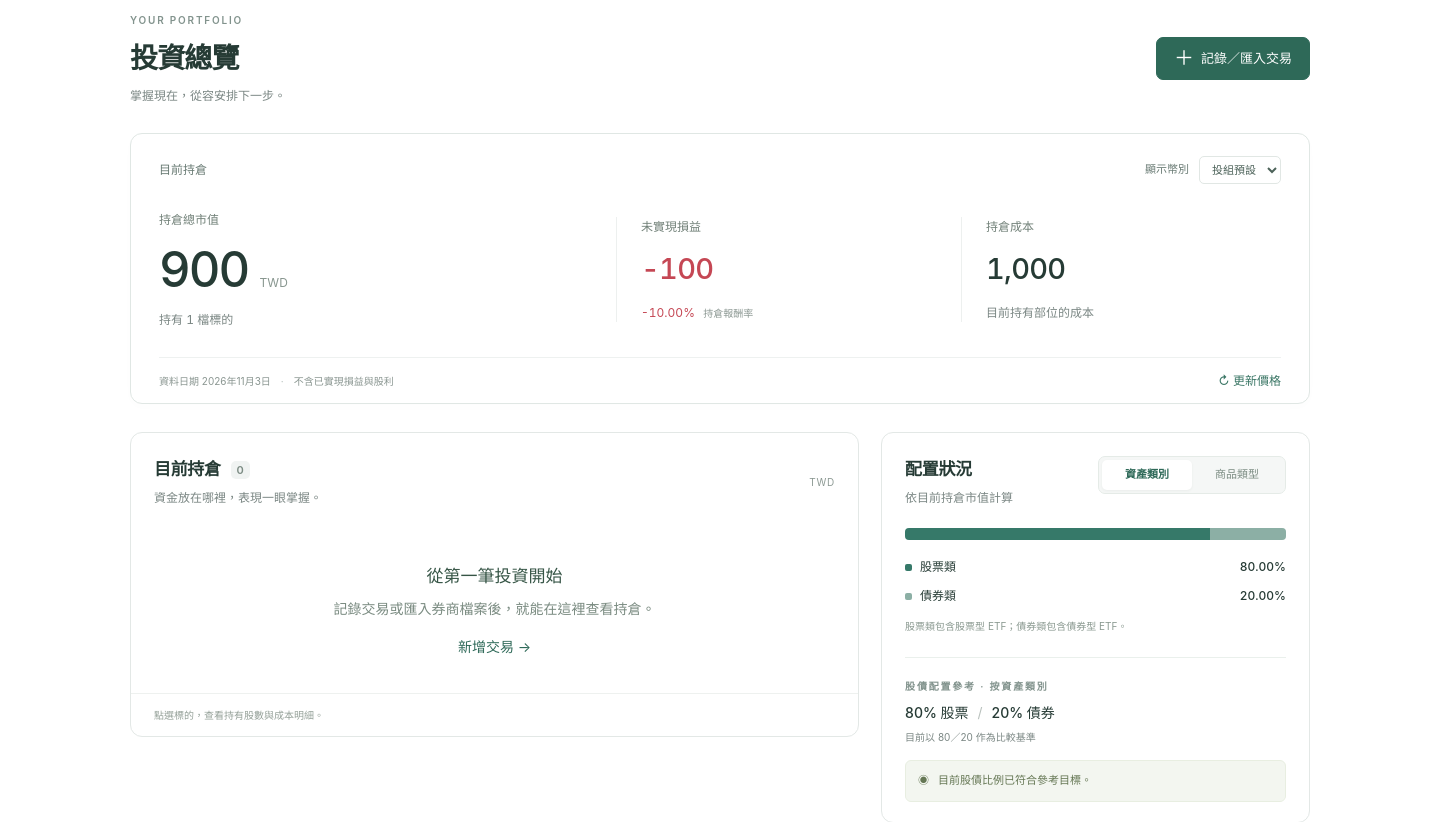
Test case: Overview homepage › hides the 80/20 asset-class reference when switching to product type
Check: the text "股票類" is shown, box x1=905 y1=556 x2=956 y2=576
Check: the text "債券類" is shown, box x1=905 y1=586 x2=956 y2=605
Click the button "商品類型" at (1237, 475), box x1=1192 y1=460 x2=1282 y2=490
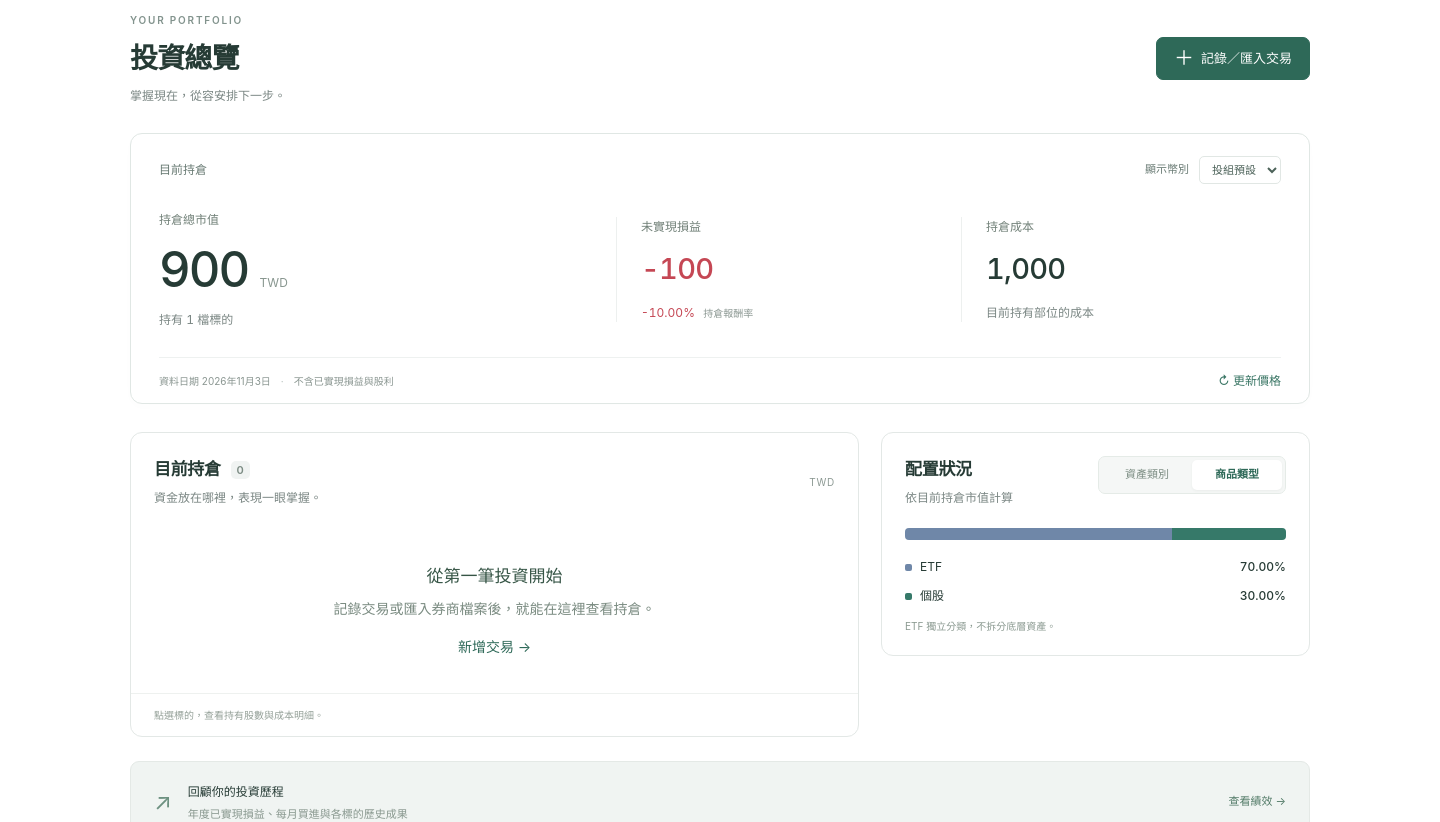
Check: the text "個股" is shown, box x1=905 y1=586 x2=944 y2=605
Check: the text "70.00%" is shown, box x1=1240 y1=556 x2=1286 y2=576
Check: the text "30.00%" is shown, box x1=1240 y1=586 x2=1286 y2=605
Click the button "資產類別" at (1147, 475), box x1=1102 y1=460 x2=1192 y2=490
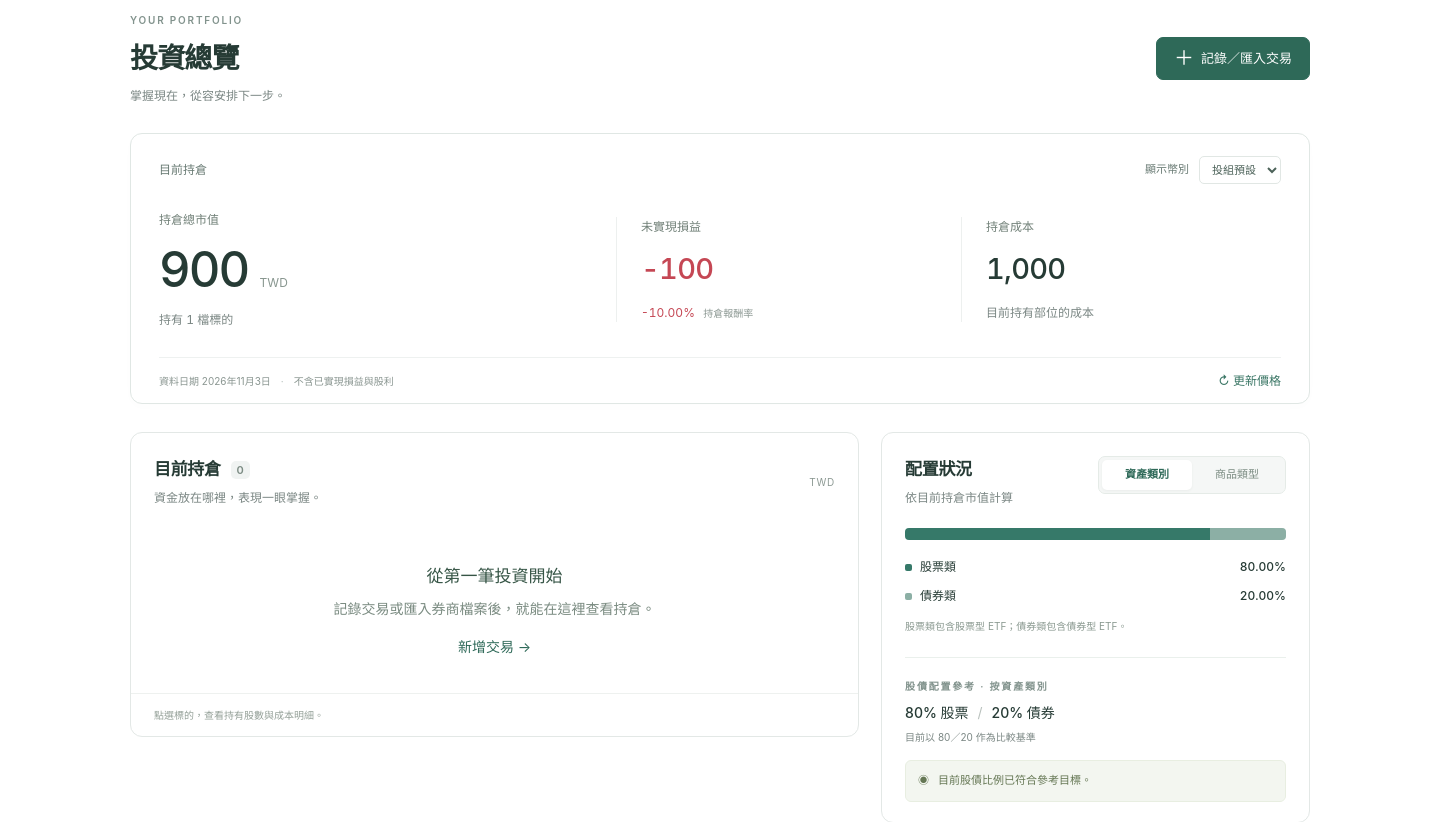
Check: the text "股票類" is shown, box x1=905 y1=556 x2=956 y2=576
Check: the text "債券類" is shown, box x1=905 y1=586 x2=956 y2=605
Check: the text "股債配置參考 · 按資產類別" is shown, box x1=905 y1=680 x2=1048 y2=692
